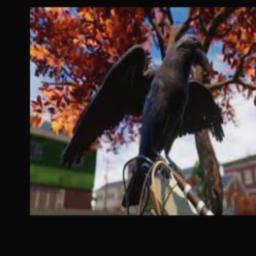Crow: (61, 35, 225, 207)
